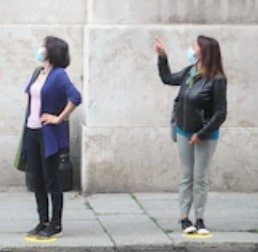Caution: (16, 30, 228, 237)
